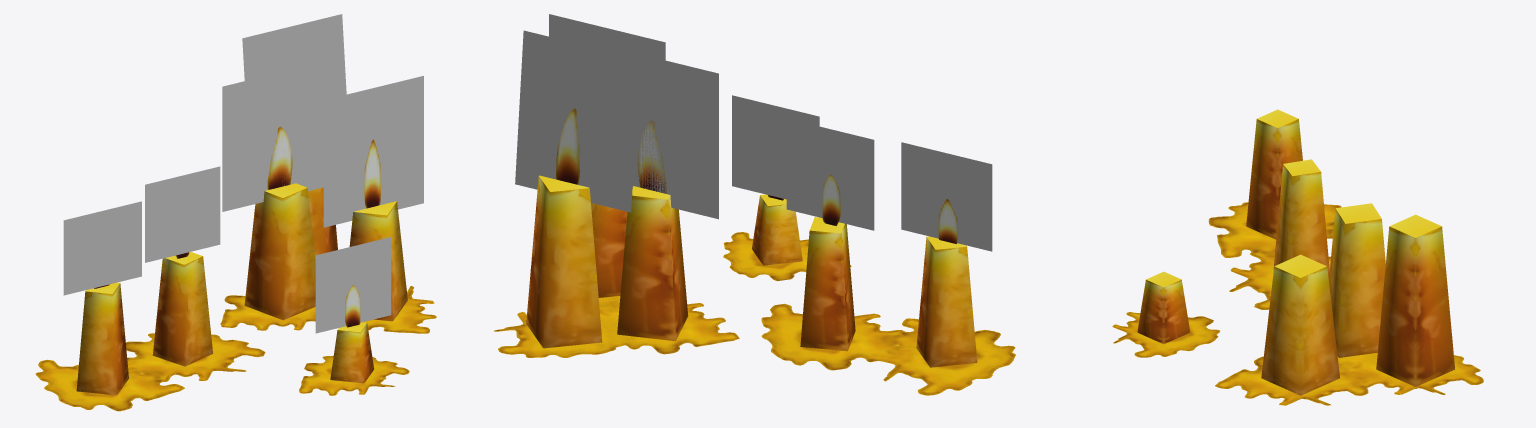
Rendered from SM_Town012_Lzy3.FBX.
3 renders of one model, left to right at view 1: azimuth 30°, elevation 25°; view 2: azimuth 150°, elevation 25°; view 3: azimuth 270°, elevation 25°, orthographic. The views are drawn at different scales.
Visible parts, largest first — view 1: SM_Town012_Lz3, Object09, Object10, SM_Town012_Lzy3, Object11; view 2: SM_Town012_Lz3, Object11, SM_Town012_Lzy3, Object10, Object09; view 3: SM_Town012_Lz3, SM_Town012_Lzy3.
Boxes of the visible parts, <box> form: SM_Town012_Lz3: <box>76,183,407,395</box>; Object09: <box>63,76,423,295</box>; Object10: <box>222,58,391,333</box>; SM_Town012_Lzy3: <box>35,126,436,411</box>; Object11: <box>145,14,346,262</box>; SM_Town012_Lz3: <box>526,175,977,367</box>; Object11: <box>515,30,874,230</box>; SM_Town012_Lzy3: <box>493,108,1015,395</box>; Object10: <box>582,40,819,219</box>; Object09: <box>549,14,992,251</box>; SM_Town012_Lz3: <box>1137,109,1454,395</box>; SM_Town012_Lzy3: <box>1112,202,1483,405</box>.
Bounding box in the file's own units: 105 × 58.41 × 85.16.
